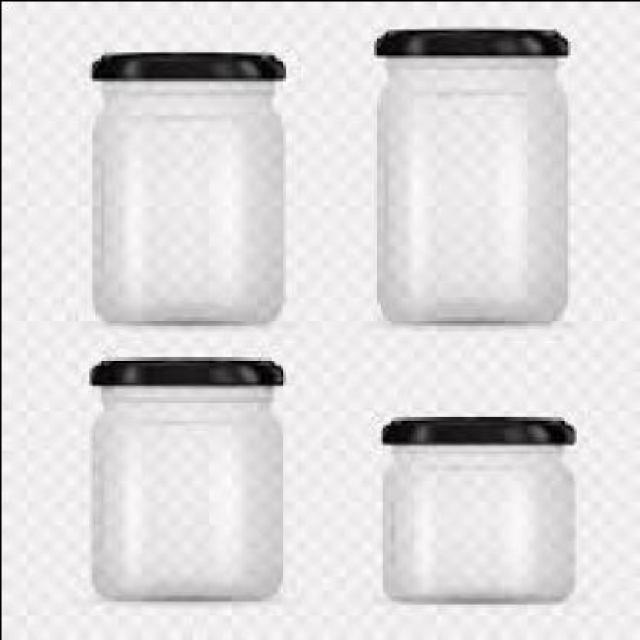GLASS: (378, 54, 572, 321), (94, 77, 281, 321), (90, 385, 282, 600), (383, 441, 574, 601)
METAL: (93, 352, 284, 385), (384, 413, 578, 444), (94, 48, 288, 77), (376, 26, 572, 54)
